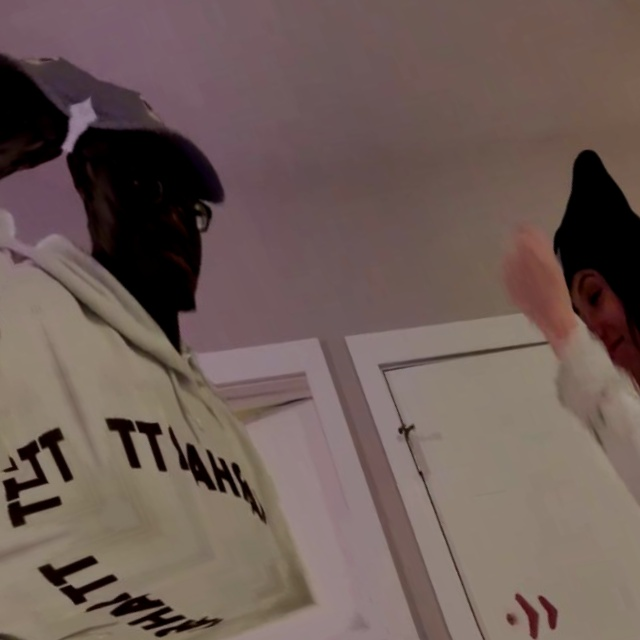Rock: (451, 203, 620, 364)
